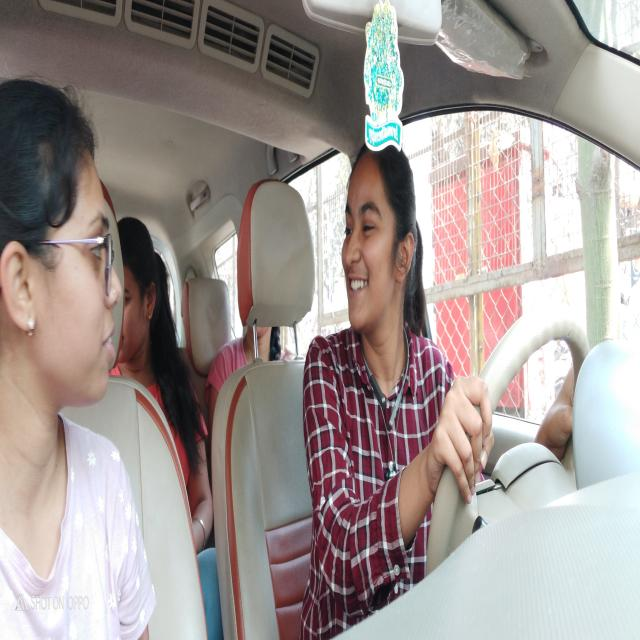LeftRight: (339, 131, 423, 345)
person: (1, 69, 124, 430), (118, 205, 160, 366)
talking: (346, 270, 369, 296)
